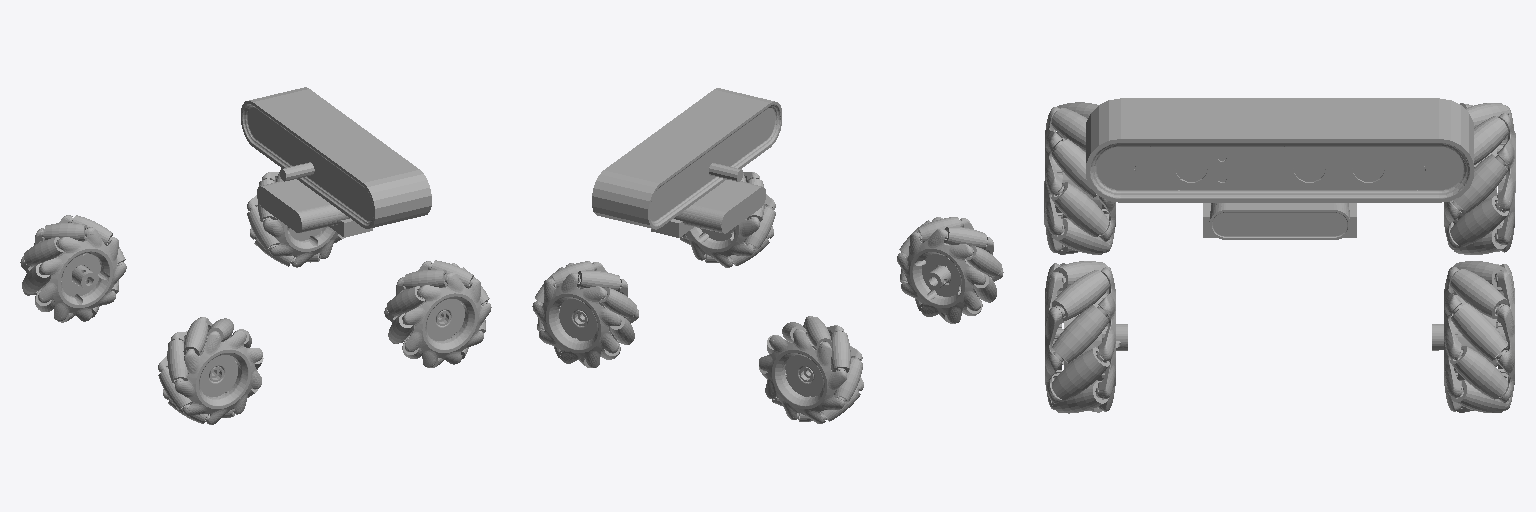
robot.urdf — yahboomcar:
<?xml version="1.0" encoding="utf-8"?>
<!-- This URDF was automatically created by SolidWorks to URDF Exporter! Originally created by [author] ([email redacted]) 
     Commit Version: 1.6.0-1-g15f4949  Build Version: 1.6.7594.29634  81.5+32.5
     For more information, please see http://wiki.ros.org/sw_urdf_exporter -->
<robot name="yahboomcar">
    <link name="base_footprint"/>
    <link name="imu_link"/>
    <link name="base_link">
        <inertial>
            <origin xyz="0.00498197982182523 5.70233829969297E-05 -0.0121008098068578" rpy="0 0 0"/>
            <mass value="0.486218814966626"/>
            <inertia
                    ixx="0.00196277727666921"
                    ixy="2.50447049446755E-07"
                    ixz="0.000140534767811098"
                    iyy="0.00457256033711368"
                    iyz="2.68618064993882E-07"
                    izz="0.00493927269870476"/>
        </inertial>
        <visual>
            <origin xyz="0 0 0" rpy="0 0 0"/>
            <geometry>
                <mesh filename="package://ackermann/meshes/base_link.obj"/>
            </geometry>
            <material name="">
                <color rgba="0 0.7 0 1"/>
            </material>
        </visual>
        <collision>
            <origin xyz="0 0 0" rpy="0 0 0"/>
            <geometry>
                <mesh filename="package://ackermann/meshes/base_link.obj"/>
            </geometry>
        </collision>
    </link>
    <joint name="base_joint" type="fixed">
        <parent link="base_footprint"/>
        <child link="base_link"/>
        <origin xyz="0.0 0.0 0.0815" rpy="0 0 0"/>
    </joint>
    <joint name="base_imu" type="fixed">
        <parent link="base_link"/>
        <child link="imu_link"/>
        <origin xyz="-0.06 0.01 0.01" rpy="0 3.1415 1.5707"/>
    </joint>
    <link name="front_right_wheel">
        <inertial>
            <origin xyz="1.9051E-06 -2.3183E-07 -0.00064079" rpy="0 0 0"/>
            <mass value="0.051532"/>
            <inertia ixx="1.4595E-05" ixy="-4.3975E-10" ixz="4.415E-10"
                     iyy="1.4594E-05" iyz="-1.7476E-09" izz="2.4264E-05"/>
        </inertial>
        <visual>
            <origin xyz="0 0 0" rpy="0 0 0"/>
            <geometry>
                <mesh filename="package://ackermann/meshes/front_right_wheel.obj"/>
            </geometry>
            <material name="">
                <color rgba="0.7 0.7 0.7 1"/>
            </material>
        </visual>
        <collision>
            <origin xyz="0 0 0" rpy="0 0 0"/>
            <geometry>
                <mesh filename="package://ackermann/meshes/front_right_wheel.obj"/>
            </geometry>
        </collision>
    </link>
    <joint name="front_right_joint" type="continuous">
        <origin xyz="0.08 -0.0845 -0.0389" rpy="-1.5703 0 3.14159"/>
        <parent link="base_link"/>
        <child link="front_right_wheel"/>
        <axis xyz="0 0 1" rpy="0 0 0"/>
        <limit effort="100" velocity="1"/>
    </joint>
    <transmission name="front_right_wheel_transmission">
      <type>transmission_interface/SimpleTransmission</type>
      <joint name="front_right_joint">
        <hardwareInterface>VelocityJointInterface</hardwareInterface>
      </joint>
      <actuator name="front_right_motor">
        <hardwareInterface>VelocityJointInterface</hardwareInterface>
        <mechanicalReduction>1</mechanicalReduction>
      </actuator>
    </transmission>
    <link name="front_left_wheel">
        <inertial>
            <origin xyz="2.3728E-06 -9.4228E-07 0.00064068" rpy="0 0 0"/>
            <mass value="0.051543"/>
            <inertia ixx="1.4597E-05" ixy="-4.7945E-10" ixz="-2.4786E-10"
                     iyy="1.4598E-05" iyz="1.7972E-09" izz="2.4267E-05"/>
        </inertial>
        <visual>
            <origin xyz="0 0 0" rpy="0 0 0"/>
            <geometry>
                <mesh filename="package://ackermann/meshes/front_left_wheel.obj"/>
            </geometry>
            <material name="">
                <color rgba="0.7 0.7 0.7 1"/>
            </material>
        </visual>
        <collision>
            <origin xyz="0 0 0" rpy="0 0 0"/>
            <geometry>
                <mesh filename="package://ackermann/meshes/front_left_wheel.obj"/>
            </geometry>
        </collision>
    </link>
    <joint name="front_left_joint" type="continuous">
        <origin xyz="0.08 0.084492 -0.0389" rpy="1.5703 0 0"/>
        <parent link="base_link"/>
        <child link="front_left_wheel"/>
        <axis xyz="0 0 1" rpy="0 0 0"/>
        <limit effort="100" velocity="1"/>
    </joint>
    <transmission name="front_left_wheel_transmission">
      <type>transmission_interface/SimpleTransmission</type>
      <joint name="front_left_joint">
        <hardwareInterface>VelocityJointInterface</hardwareInterface>
      </joint>
      <actuator name="front_left_wheel_motor">
        <hardwareInterface>VelocityJointInterface</hardwareInterface>
        <mechanicalReduction>1</mechanicalReduction>
      </actuator>
    </transmission>
    <link name="back_right_wheel">
        <inertial>
            <origin xyz="-1.75924169923403E-06 1.28388821071107E-06 -0.000590549296238266" rpy="0 0 0"/>
            <mass value="0.051540174053366"/>
            <inertia ixx="1.45974152250002E-05" ixy="1.94850559178397E-10" ixz="-1.61846387282284E-09"
                     iyy="1.4596501955693E-05" iyz="-6.27904057423818E-10" izz="2.42663091380451E-05"/>
        </inertial>
        <visual>
            <origin xyz="0 0 0" rpy="0 0 0"/>
            <geometry>
                <mesh filename="package://ackermann/meshes/back_right_wheel.obj"/>
            </geometry>
            <material name="">
                <color rgba="0.7 0.7 0.7 1"/>
            </material>
        </visual>
        <collision>
            <origin xyz="0 0 0" rpy="0 0 0"/>
            <geometry>
                <mesh filename="package://ackermann/meshes/back_right_wheel.obj"/>
            </geometry>
        </collision>
    </link>
    <joint name="back_right_joint" type="continuous">
        <origin xyz="-0.08 -0.0845 -0.03946" rpy="-1.57 0 3.14159"/>
        <parent link="base_link"/>
        <child link="back_right_wheel"/>
        <axis xyz="0 0 1" rpy="0 0 0"/>
        <limit effort="100" velocity="1"/>
    </joint>
    <transmission name="back_right_wheel_transmission">
      <type>transmission_interface/SimpleTransmission</type>
      <joint name="back_right_joint">
        <hardwareInterface>VelocityJointInterface</hardwareInterface>
      </joint>
      <actuator name="back_right_wheel_motor">
        <hardwareInterface>VelocityJointInterface</hardwareInterface>
        <mechanicalReduction>1</mechanicalReduction>
      </actuator>
    </transmission>
    <link name="back_left_wheel">
        <inertial>
            <origin xyz="-4.01213085227115E-07 2.04910264598596E-06 0.000590775697051377" rpy="0 0 0"/>
            <mass value="0.0515309299357028"/>
            <inertia ixx="1.45942986129926E-05" ixy="-3.19787215398093E-10" ixz="1.74943062058915E-09"
                     iyy="1.45948727598913E-05" iyz="1.61769812110049E-10" izz="2.4263683888153E-05"/>
        </inertial>
        <visual>
            <origin xyz="0 0 0" rpy="0 0 0"/>
            <geometry>
                <mesh filename="package://ackermann/meshes/back_left_wheel.obj"/>
            </geometry>
            <material name="">
                <color rgba="0.7 0.7 0.7 1"/>
            </material>
        </visual>
        <collision>
            <origin xyz="0 0 0" rpy="0 0 0"/>
            <geometry>
                <mesh filename="package://ackermann/meshes/back_left_wheel.obj"/>
            </geometry>
        </collision>
    </link>
    <joint name="back_left_joint" type="continuous">
        <origin xyz="-0.08 0.084492 -0.03954" rpy="1.5703 0 0"/>
        <parent link="base_link"/>
        <child link="back_left_wheel"/>
        <axis xyz="0 0 1" rpy="0 0 0"/>
        <limit effort="100" velocity="1"/>
    </joint>
    <transmission name="back_left_wheel_transmission">
      <type>transmission_interface/SimpleTransmission</type>
      <joint name="back_left_joint">
        <hardwareInterface>VelocityJointInterface</hardwareInterface>
      </joint>
      <actuator name="back_left_wheel_motor">
        <hardwareInterface>VelocityJointInterface</hardwareInterface>
        <mechanicalReduction>1</mechanicalReduction>
      </actuator>
    </transmission>
    <link name="laser_link">
        <inertial>
            <origin xyz="-0.0176558922685589 0.000671805271544437 0.0219302095894866" rpy="0 0 0" />
            <mass value="0.0483909504209895" />
            <inertia ixx="1.58456966399128E-05" ixy="-4.23913983850005E-07" ixz="-2.09597897904374E-07"
                     iyy="3.89262522903605E-05" iyz="3.24809725932687E-07" izz="4.86230801106223E-05" />
        </inertial>
        <visual>
            <origin xyz="0 0 0" rpy="0 0 0"/>
            <geometry>
                <mesh filename="package://ackermann/sensor/laser_link.obj"/>
            </geometry>
            <material name="">
                <color rgba="0.7 0.7 0.7 1"/>
            </material>
        </visual>
        <collision>
            <origin xyz="0 0 0" rpy="0 0 0"/>
            <geometry>
                <mesh filename="package://ackermann/sensor/laser_link.obj"/>
            </geometry>
        </collision>
    </link>
    <joint name="laser_joint" type="fixed">
        <origin xyz="0.0435 5.25826986680105E-05 0.11" rpy="0 0 0"/>
        <parent link="base_link"/>
        <child link="laser_link"/>
    </joint>
    <link name="camera_link">
        <inertial>
            <origin xyz="0 0 0" rpy="0 0 0"/>
            <mass value="0"/>
            <inertia ixx="0" ixy="0" ixz="0" iyy="0" iyz="0" izz="0"/>
        </inertial>
        <visual>
            <origin xyz="0 0 0" rpy="0 0 0"/>
            <geometry>
                <mesh filename="package://ackermann/sensor/camera_link.obj"/>
            </geometry>
            <material name="">
                <color rgba="0.7 0.7 0.7 1"/>
            </material>
        </visual>
        <collision>
            <origin xyz="0 0 0" rpy="0 0 0"/>
            <geometry>
                <mesh filename="package://ackermann/sensor/camera_link.obj"/>
            </geometry>
        </collision>
    </link>
    <joint name="camera_joint" type="fixed">
        <origin xyz="0.057105 1.7948E-05 0.03755" rpy="0 0 0"/>
        <parent link="base_link"/>
        <child link="camera_link"/>
    </joint>
</robot>

--- Facts derived from the render (not from the file) ---
Views: 3 orthographic renders of the robot side by side, from view 1: azimuth 30°, elevation 25°; view 2: azimuth 150°, elevation 25°; view 3: azimuth 270°, elevation 25°.
Model yahboomcar with 9 links and 8 joints (4 continuous, 4 fixed), rooted at base_footprint, posed all joints at 0.
Visible links, largest first — view 1: camera_link, back_right_wheel, front_right_wheel, back_left_wheel, front_left_wheel; view 2: camera_link, back_left_wheel, back_right_wheel, front_left_wheel, front_right_wheel; view 3: camera_link, front_left_wheel, front_right_wheel, back_right_wheel, back_left_wheel.
Link boxes in pixels (<box>): camera_link: <box>241,87,431,237</box>; back_right_wheel: <box>158,317,263,424</box>; front_right_wheel: <box>384,260,491,367</box>; back_left_wheel: <box>20,215,126,322</box>; front_left_wheel: <box>247,168,343,267</box>; camera_link: <box>592,88,781,237</box>; back_left_wheel: <box>759,316,863,423</box>; back_right_wheel: <box>897,217,1003,323</box>; front_left_wheel: <box>532,261,638,367</box>; front_right_wheel: <box>680,172,775,267</box>; camera_link: <box>1086,98,1473,239</box>; front_left_wheel: <box>1432,261,1514,412</box>; front_right_wheel: <box>1045,261,1127,413</box>; back_right_wheel: <box>1044,102,1115,254</box>; back_left_wheel: <box>1444,103,1515,254</box>.
Size in the robot's own frame: 0.2246 by 0.1994 by 0.1245 metres.
5 mesh visuals loaded from 7 distinct referenced files (5 OBJ); not drawn: 2 (reference not matched to a file when rendering).